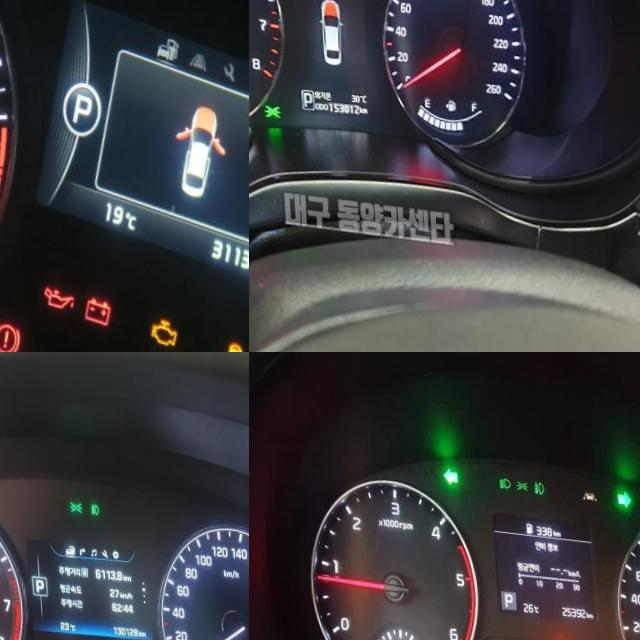FrontFogLight: (530, 471, 541, 486), (87, 493, 96, 507)
LaneCenteringOff: (579, 480, 593, 491)
Low beam: (495, 469, 508, 482)
SideLamp: (259, 97, 277, 113), (66, 492, 79, 505), (512, 470, 525, 483)
